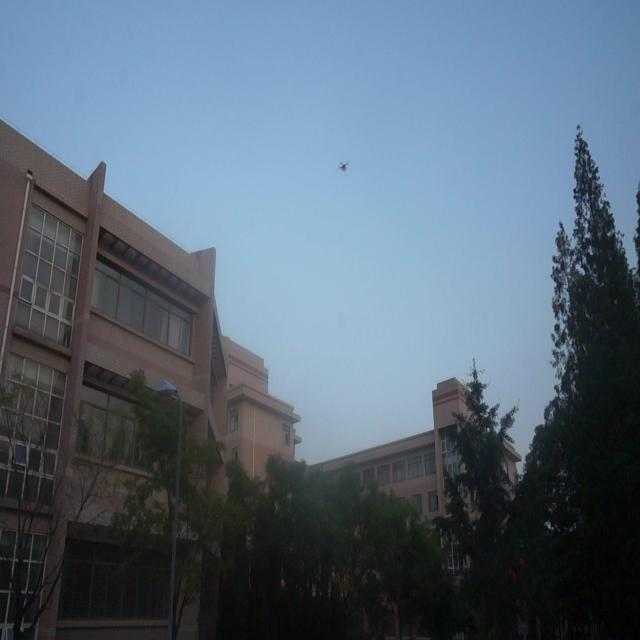drone: (337, 156, 350, 176)
